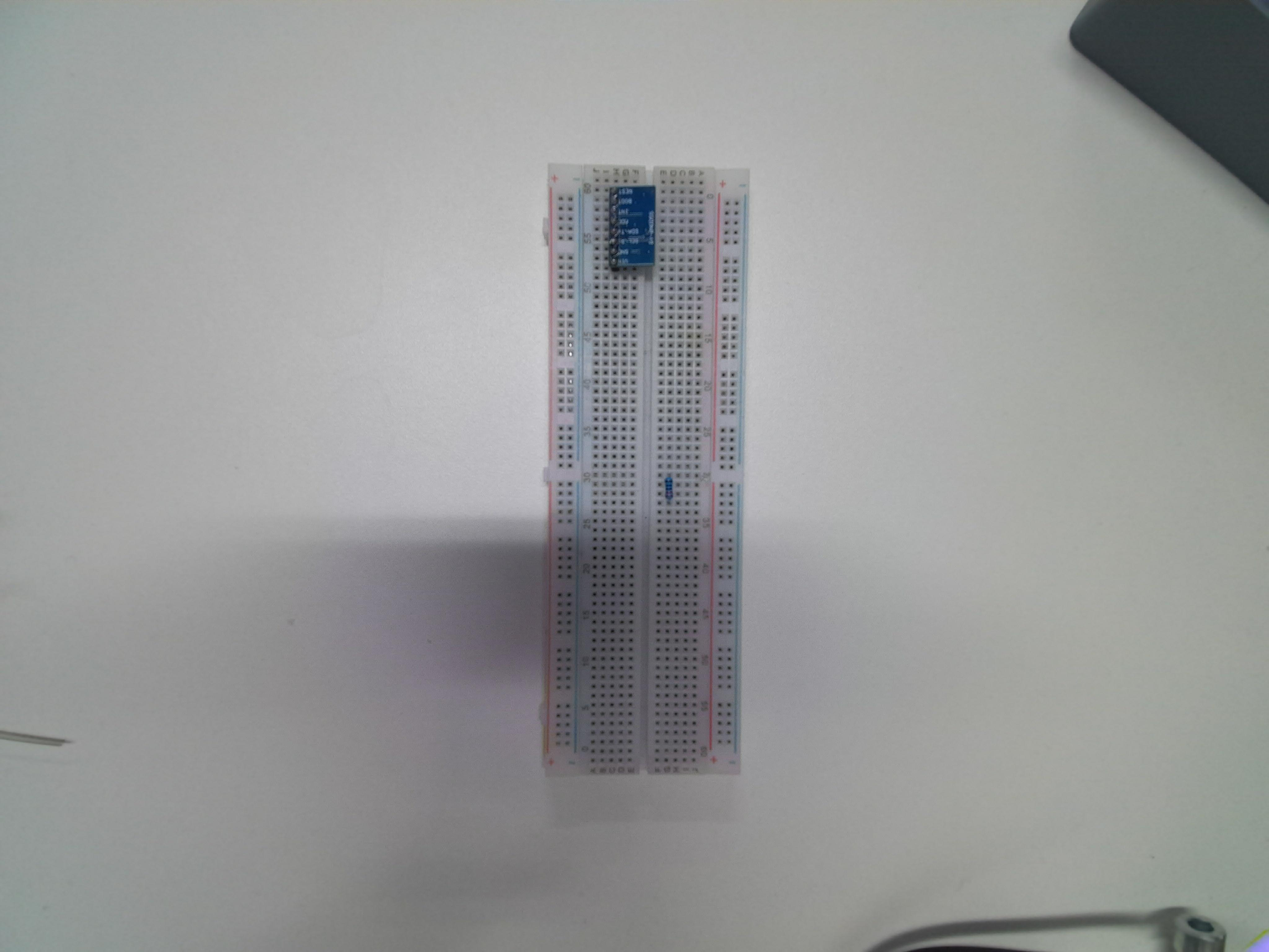base: (538, 161, 753, 781)
blue-board: (606, 182, 661, 274)
resistor-small: (663, 474, 677, 502)
